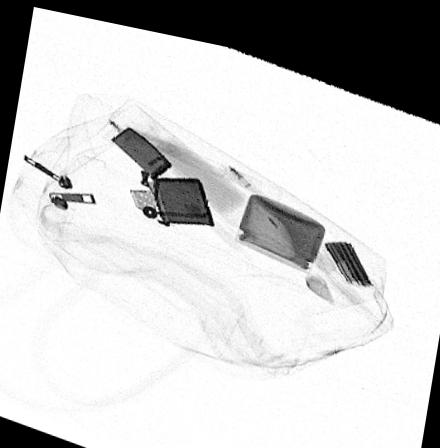Lighter: (109, 119, 213, 218)
